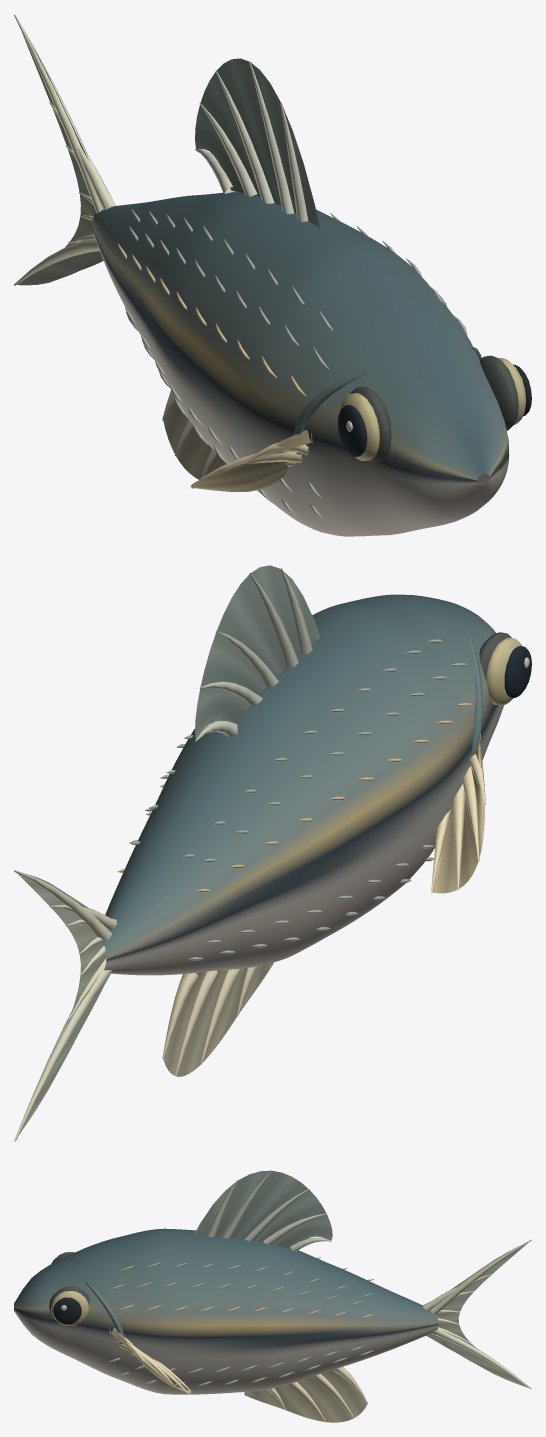
The model's file is shiner.glb.
The picture shows the model from 3 angles, top to bottom: view 1: azimuth 30°, elevation 25°; view 2: azimuth 150°, elevation 25°; view 3: azimuth 270°, elevation 25°; orthographic projection. The views are drawn at different scales.
Visible parts, largest first — view 1: body, dorsal, tail, fin_-1, fins; view 2: body, dorsal, fins, tail, fin_-1; view 3: body, dorsal, fins, tail, fin_1.
Part boxes in pixels (<box>): body: <box>92,191,531,536</box>; dorsal: <box>195,58,319,227</box>; tail: <box>14,14,116,285</box>; fin_-1: <box>190,430,312,491</box>; fins: <box>162,390,226,479</box>; body: <box>102,594,531,975</box>; dorsal: <box>195,565,319,741</box>; fins: <box>162,962,274,1076</box>; tail: <box>14,870,117,1141</box>; fin_-1: <box>431,734,485,893</box>; body: <box>14,1228,437,1394</box>; dorsal: <box>194,1170,332,1252</box>; fins: <box>244,1367,367,1422</box>; tail: <box>423,1239,531,1389</box>; fin_1: <box>109,1328,191,1393</box>.
Bounding box in the file's own units: 0.6882 × 1.07 × 1.99.
